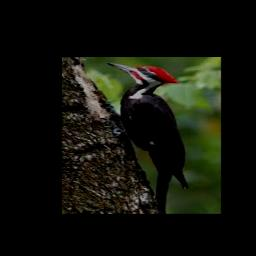Woodpecker: (106, 62, 188, 213)
